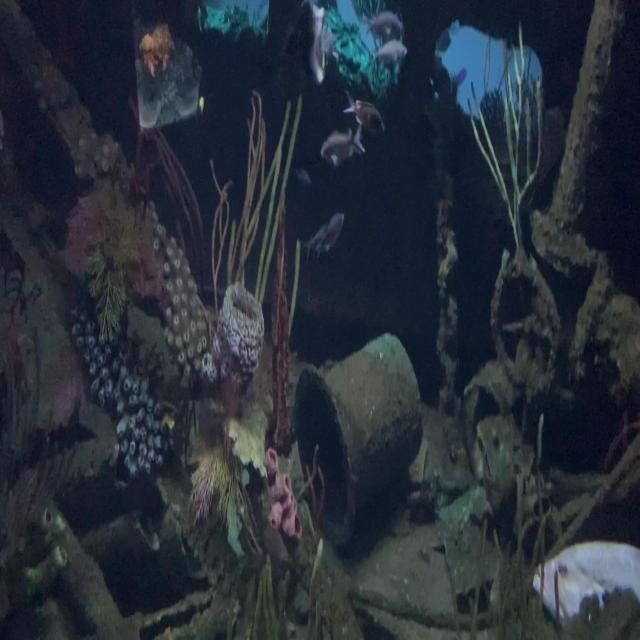fish: (530, 535, 640, 635), (321, 123, 367, 170), (309, 210, 346, 262), (344, 94, 386, 138), (299, 216, 333, 264), (372, 39, 410, 69), (367, 11, 405, 40), (294, 163, 314, 191)
